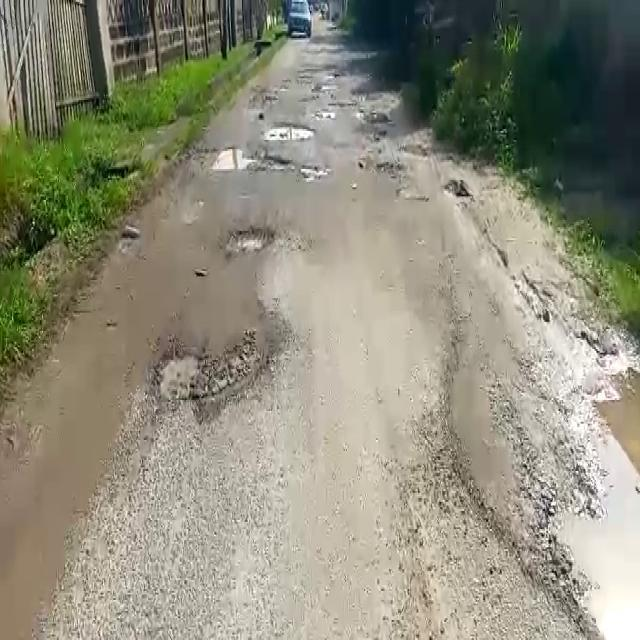pothole: (538, 369, 640, 639), (150, 323, 284, 421), (205, 147, 294, 173), (225, 223, 279, 256), (261, 119, 317, 140)
